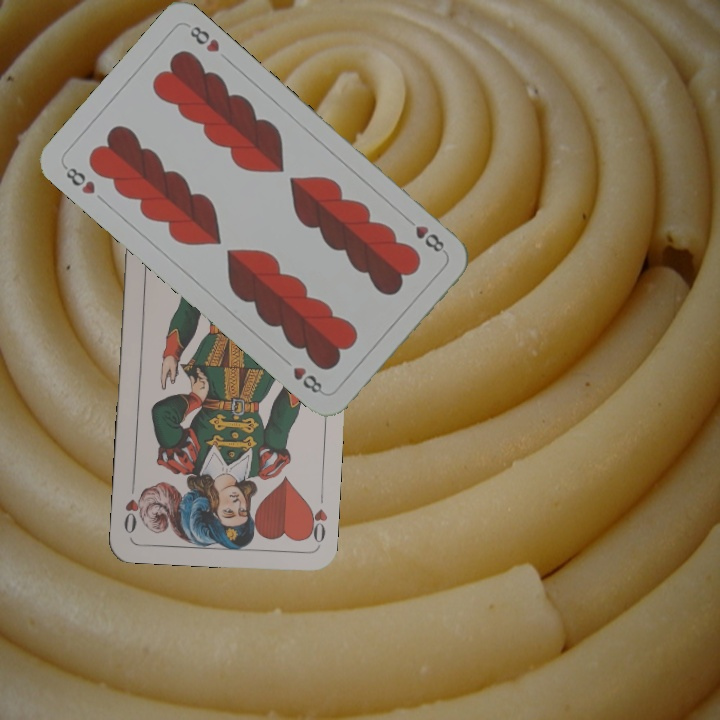H8: (400, 212, 449, 255), (59, 161, 98, 197)
HO: (302, 487, 331, 546)
